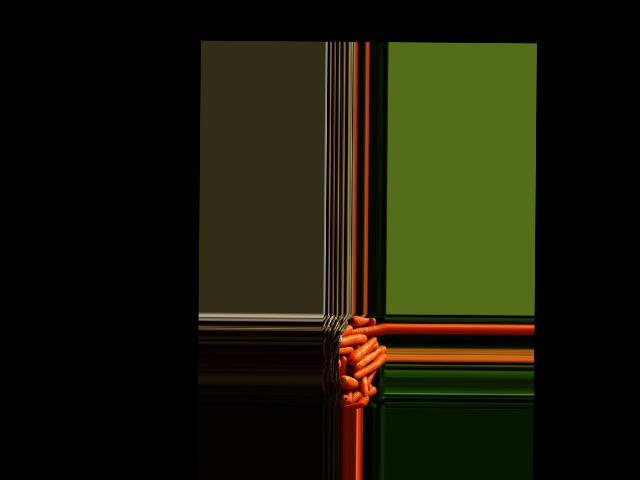carrot: (338, 395, 349, 404)
